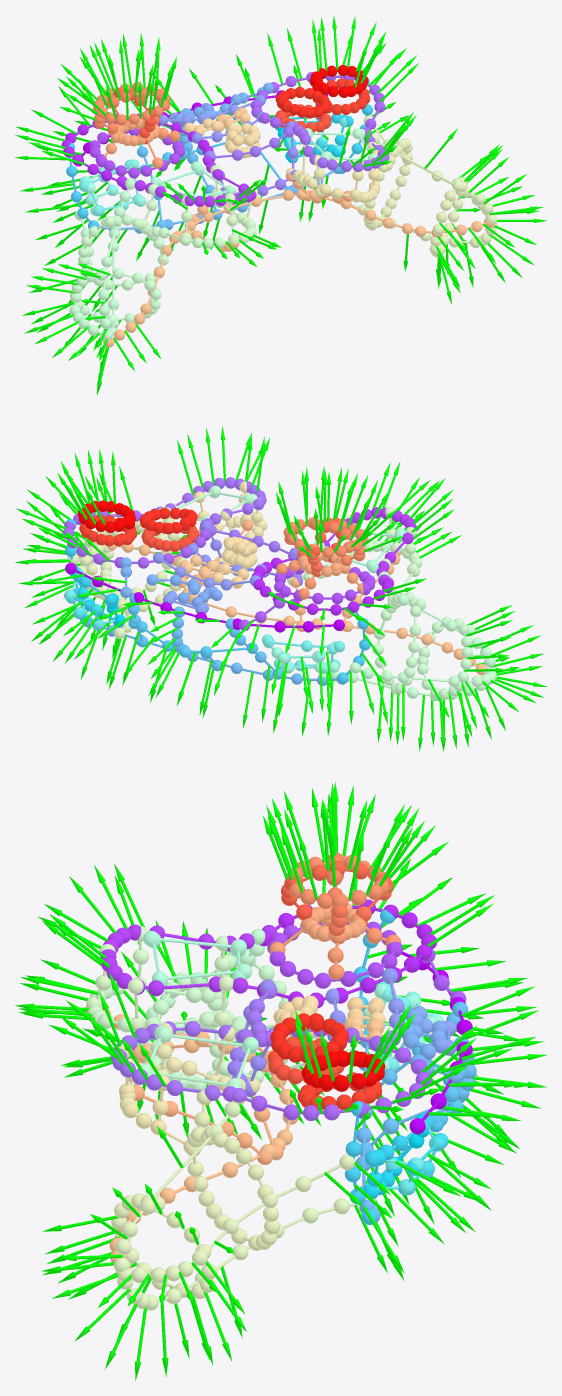
File: author2_gamepad.gltf
3 views of the same model, one above another, from view 1: azimuth 30°, elevation 25°; view 2: azimuth 150°, elevation 25°; view 3: azimuth 270°, elevation 25° (orthographic). The views are drawn at different scales.
Bounding box in the file's own units: 1.01 × 0.5501 × 0.66.
